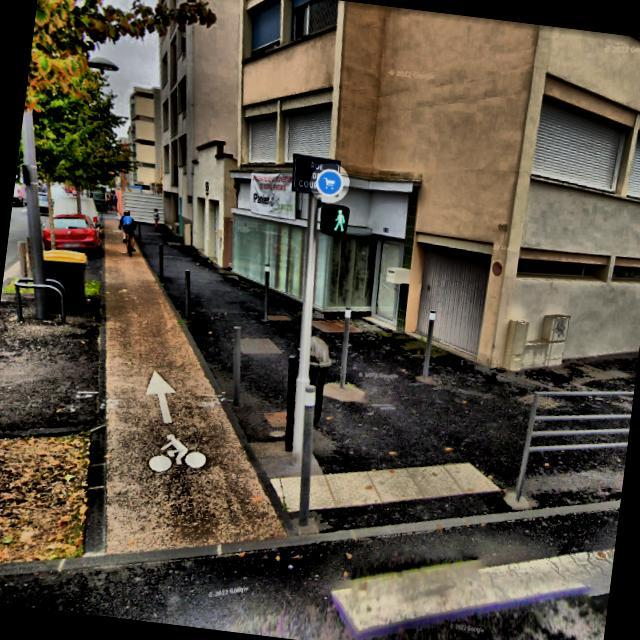green_light: (329, 204, 348, 233)
